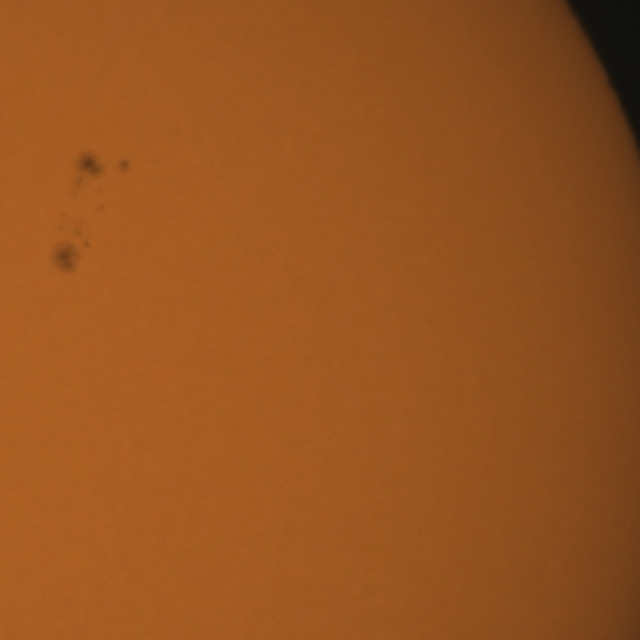sunspot: (70, 148, 111, 197), (77, 150, 132, 186), (50, 236, 85, 278), (115, 156, 132, 175)
